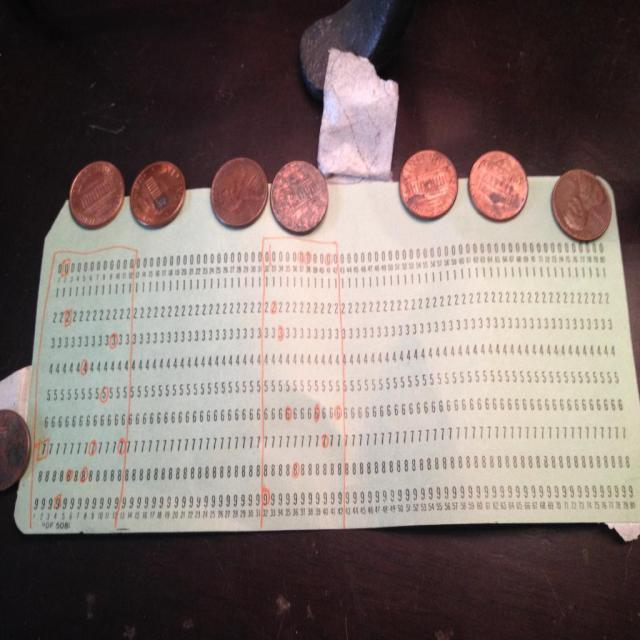Coin: (268, 157, 330, 234), (396, 147, 458, 220), (469, 150, 530, 222), (208, 157, 268, 228), (65, 158, 125, 228), (554, 168, 611, 241), (130, 160, 190, 224), (0, 404, 32, 492)
